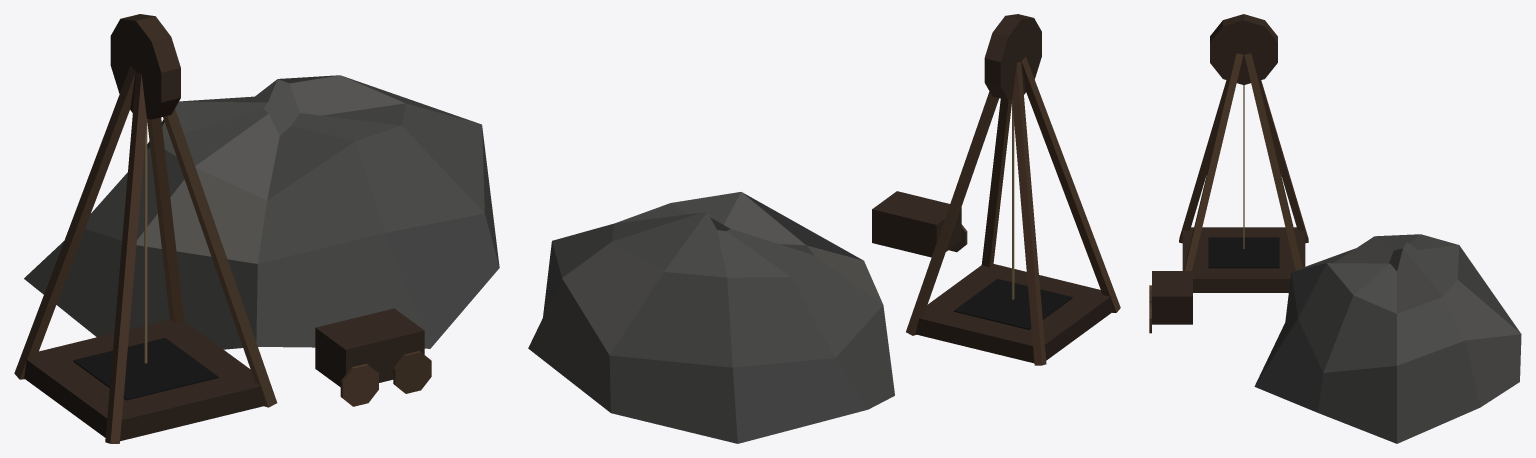
Rendered from yard_mine.glb.
3 renders of one model, left to right at view 1: azimuth 30°, elevation 25°; view 2: azimuth 150°, elevation 25°; view 3: azimuth 270°, elevation 25°, orthographic. The views are drawn at different scales.
Visible parts, largest first — view 1: yard_mine; view 2: yard_mine; view 3: yard_mine.
Boxes of the visible parts, x1,y1,x2,y2 form: yard_mine: (14,14,499,443); yard_mine: (528,14,1120,443); yard_mine: (1149,14,1521,443).
Bounding box in the file's own units: 8.3 × 6.04 × 7.29.
1 material, 1 textured.
